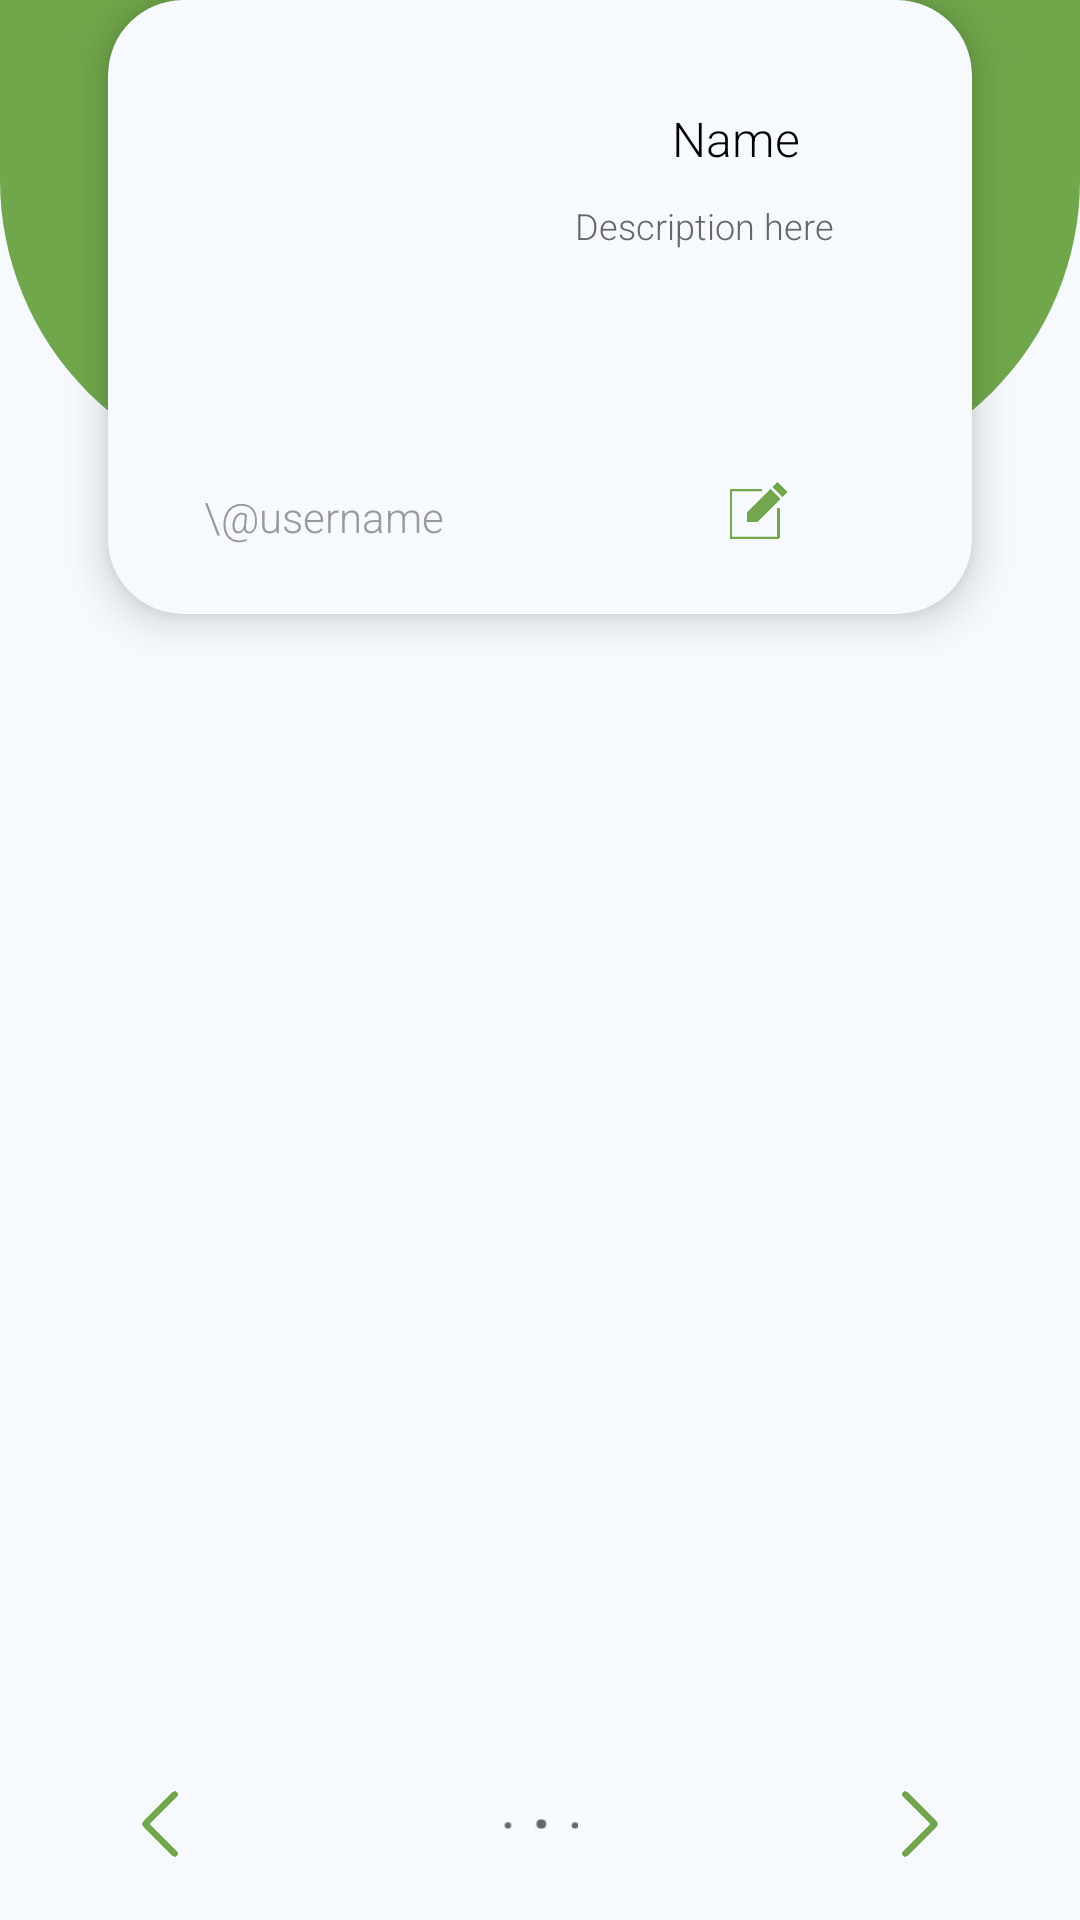

Icon click points for this 1080 × 1920 phone screenshot, format point (x, y):
back: point (160, 1824)
forward: point (920, 1824)
